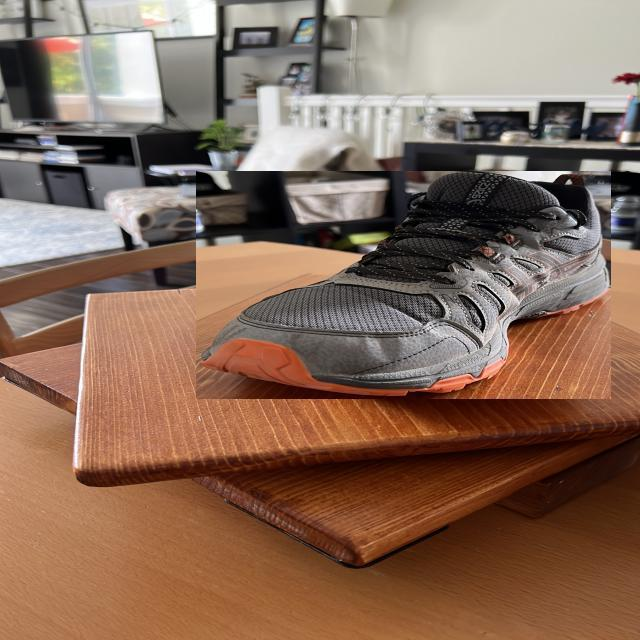shoe: (196, 171, 611, 399)
